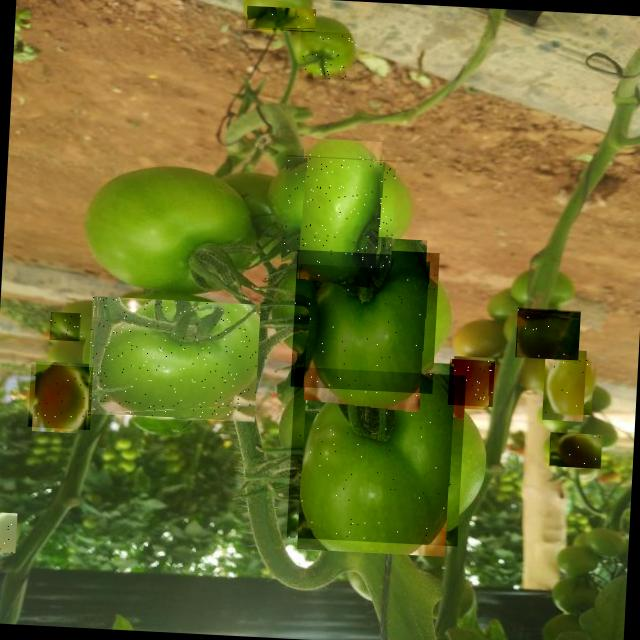Ripe Tomato: (448, 359, 495, 407)
Unripe Tomato: (286, 366, 466, 546), (290, 246, 440, 394), (87, 296, 260, 423), (282, 152, 398, 268), (28, 364, 93, 430), (515, 305, 581, 360), (536, 356, 594, 416), (299, 30, 357, 81), (548, 432, 602, 469), (246, 5, 316, 32), (51, 312, 84, 342), (0, 512, 17, 553)
